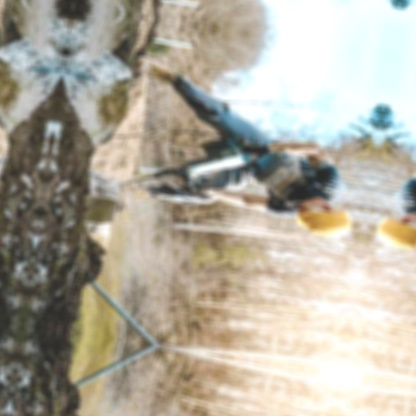yellow: (292, 201, 359, 244)
